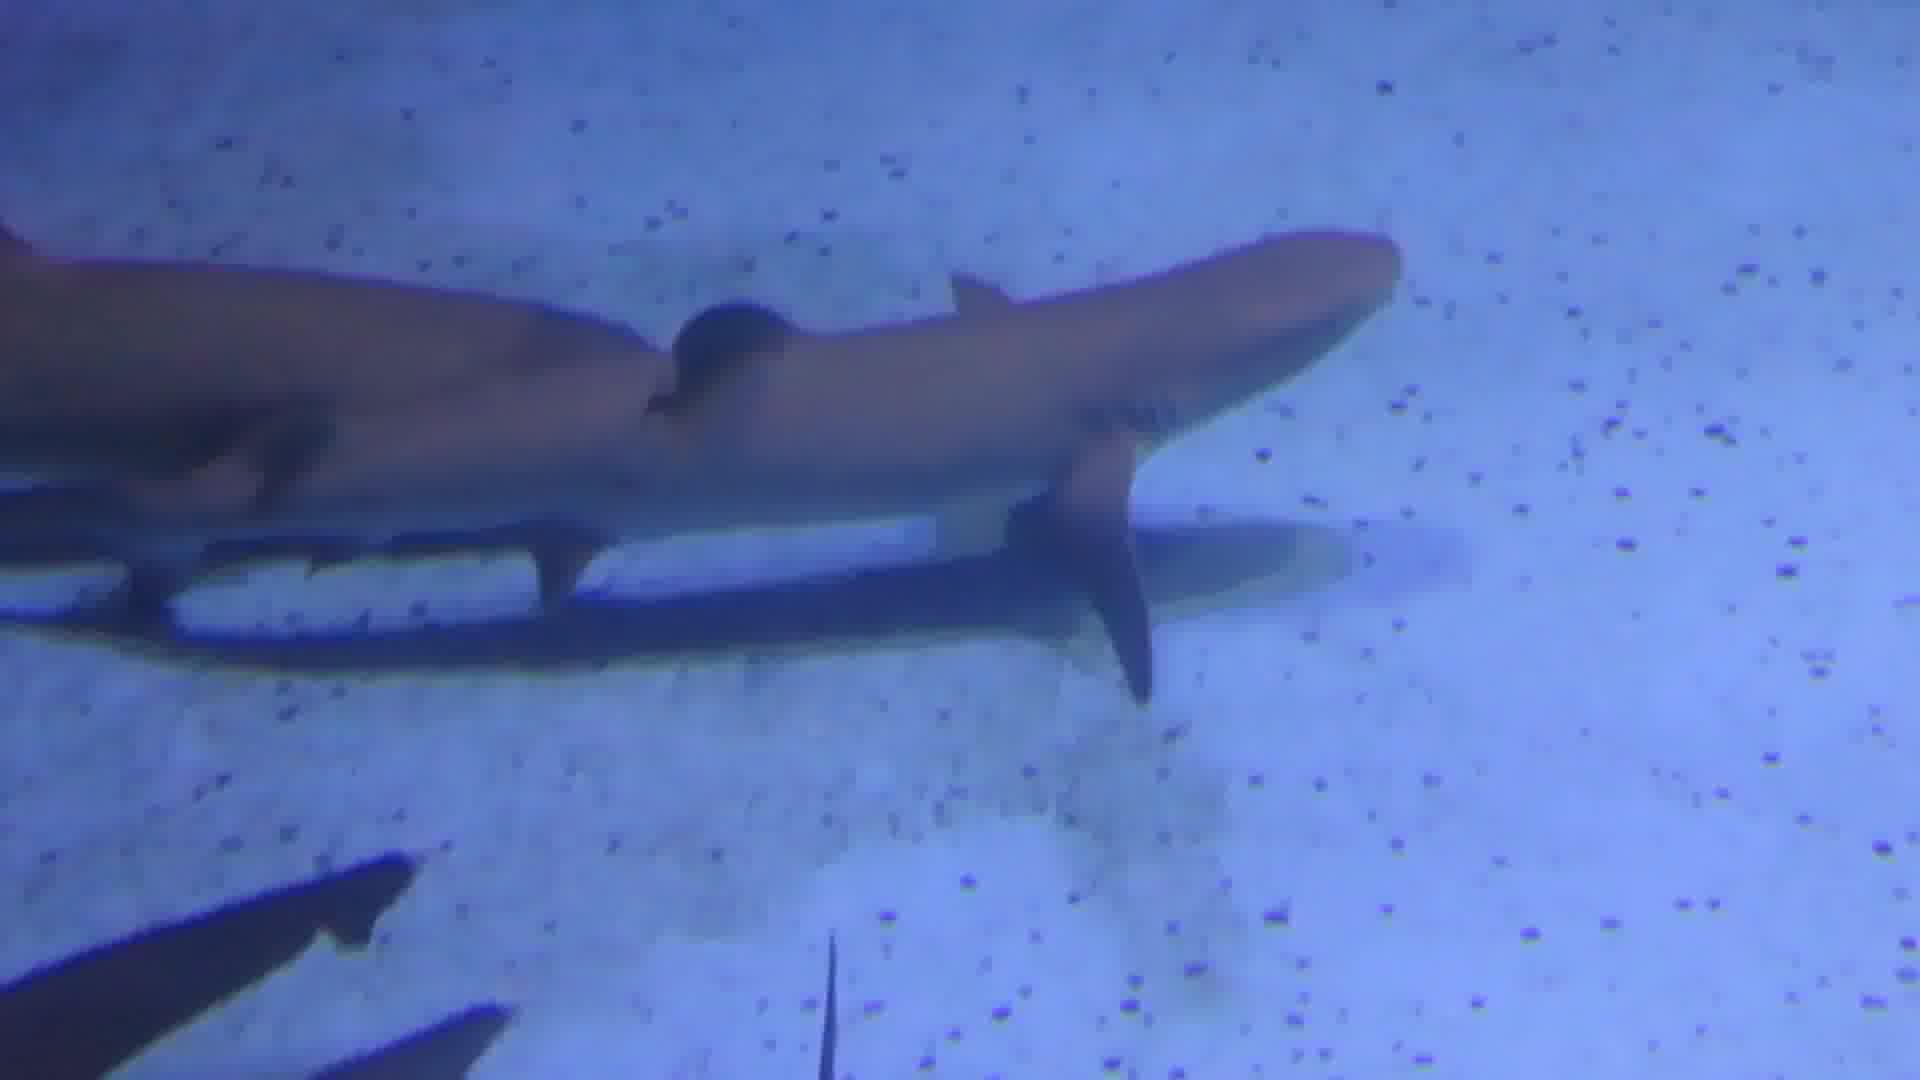Triaenodon obesus: (1, 195, 1469, 642)
